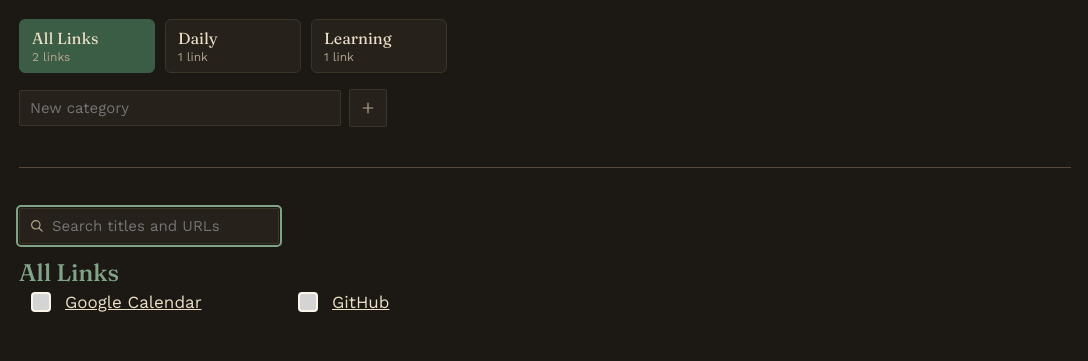
Scenario: UserFavorites: links › deletes a link after confirmation
Click the button "Daily 1 link".
click(233, 46)  # box top-left (165, 19), bottom-right (301, 73)
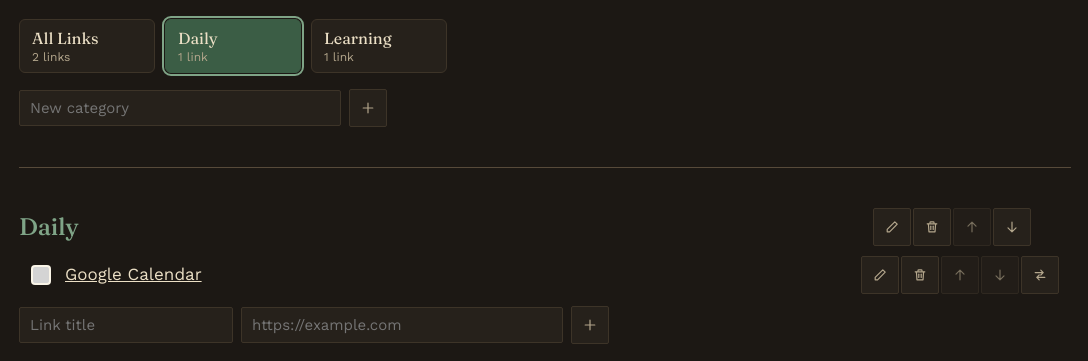
Click the button named "Delete link".
click(920, 275)  # box top-left (901, 256), bottom-right (939, 294)
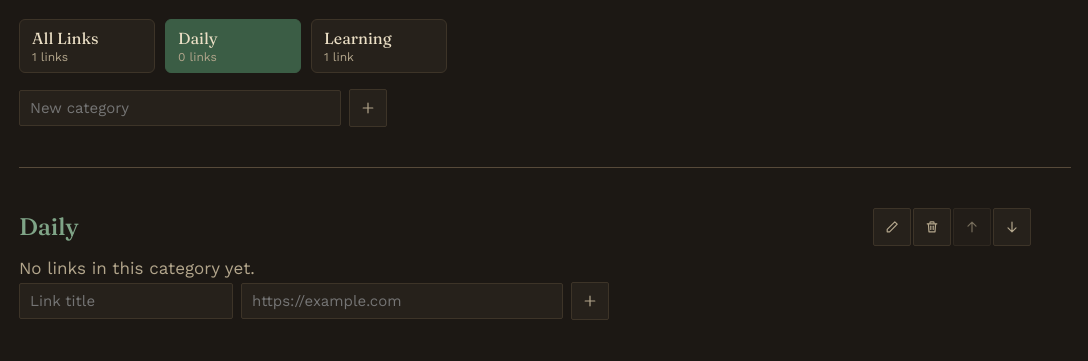
Now the text "No links in this category yet." is shown, box top-left (19, 258), bottom-right (255, 278)
